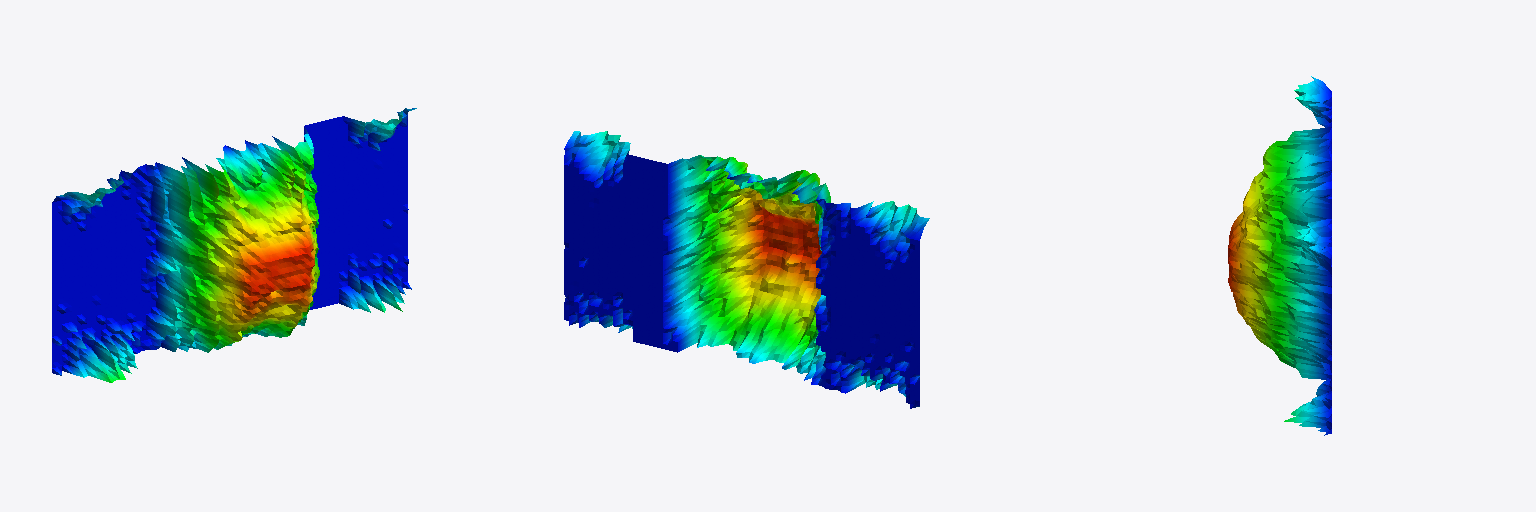
The picture shows the model from 3 angles: view 1: azimuth 30°, elevation 25°; view 2: azimuth 150°, elevation 25°; view 3: azimuth 270°, elevation 25°; orthographic projection.
Size of the model in its own units: 72 by 36 by 18.35.
Materials: 1 (1 with a texture image).